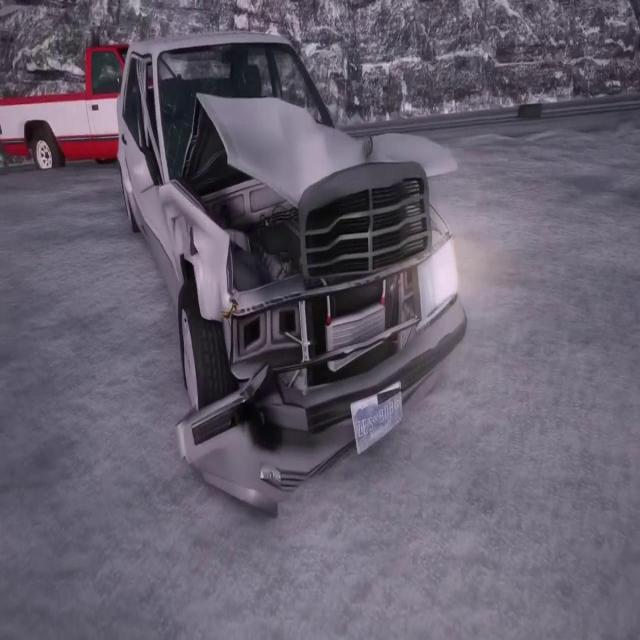moderate: (118, 36, 470, 527)
